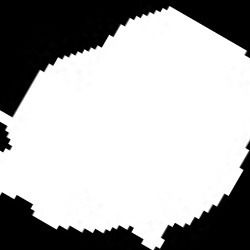spot: (2, 9, 248, 247)
